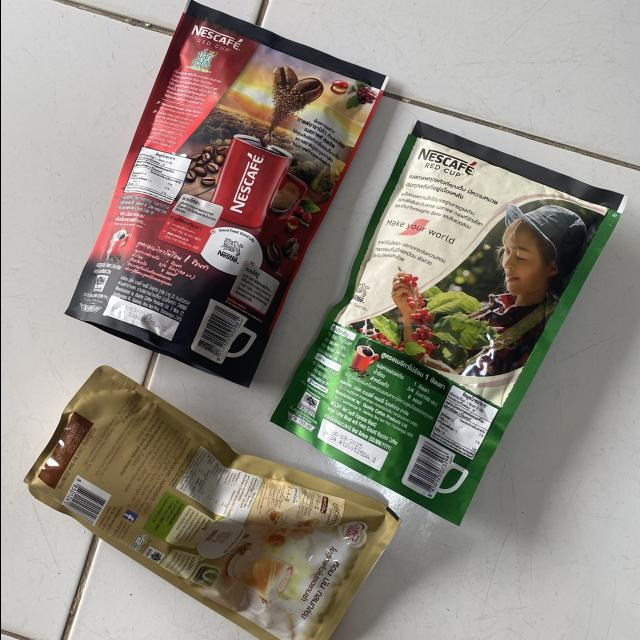plastik: (271, 122, 625, 524), (65, 1, 387, 386), (23, 367, 398, 640)
